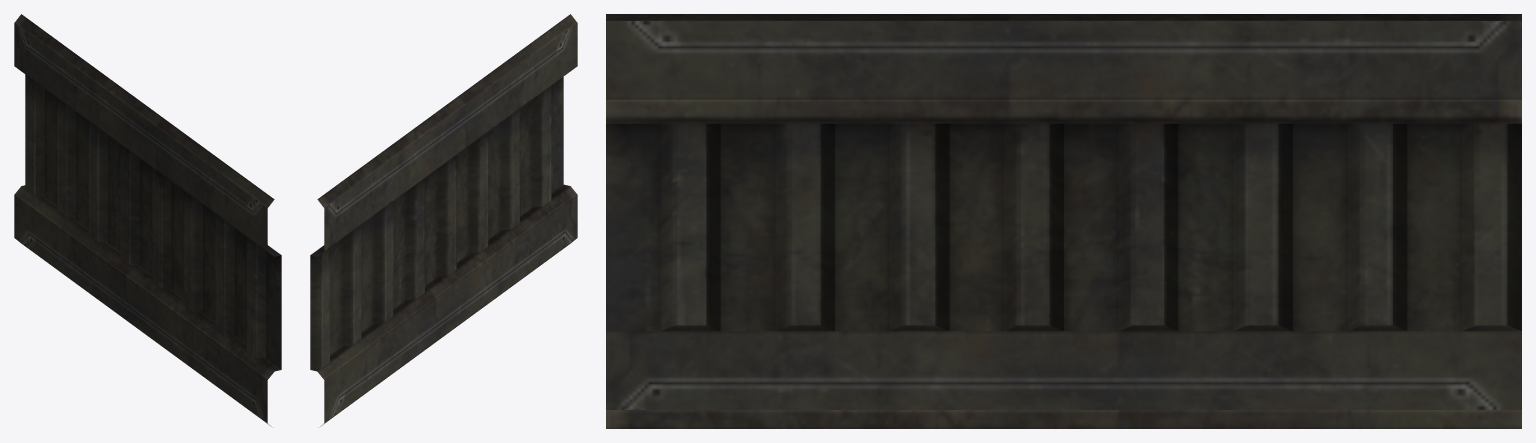
Rendered from pplant_bulkhead_extender.dae.
3 renders of one model, left to right at view 1: azimuth 30°, elevation 25°; view 2: azimuth 150°, elevation 25°; view 3: azimuth 270°, elevation 25°, orthographic. The views are drawn at different scales.
Parts seen in each view (by area): view 1: bulkhead_extender; view 2: bulkhead_extender; view 3: bulkhead_extender.
Boxes of the visible parts, x1,y1,x2,y2 form: bulkhead_extender: [14, 14, 281, 426]; bulkhead_extender: [310, 14, 577, 426]; bulkhead_extender: [606, 14, 1521, 428].
Bounding box in the file's own units: 0.125 × 2 × 4.
